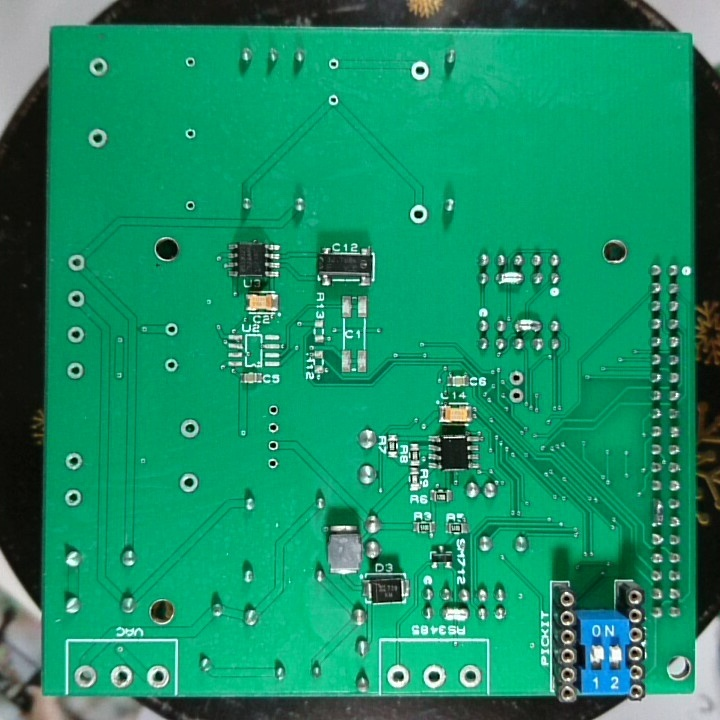F: (457, 660, 483, 691), (143, 663, 171, 691), (71, 662, 100, 689), (421, 662, 448, 691), (108, 662, 135, 690), (85, 53, 112, 80), (385, 663, 411, 690), (62, 358, 88, 382), (408, 58, 431, 82), (65, 251, 88, 275), (64, 323, 88, 346), (62, 487, 85, 511), (177, 472, 200, 496), (178, 417, 202, 440), (85, 127, 110, 149), (65, 287, 87, 311), (408, 203, 430, 226), (62, 452, 85, 473), (507, 386, 526, 407), (163, 319, 179, 340), (507, 369, 525, 387), (162, 355, 179, 374), (326, 55, 342, 75), (183, 53, 199, 73), (182, 125, 199, 143), (265, 455, 281, 473), (267, 401, 282, 419), (267, 436, 281, 455), (326, 92, 341, 109), (266, 420, 282, 435), (183, 197, 198, 212)
P: (439, 603, 469, 623), (494, 268, 525, 287), (512, 318, 543, 335), (651, 494, 665, 528)
